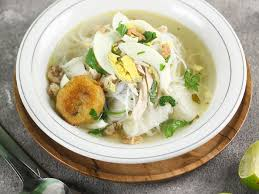soto: (35, 5, 241, 159)
